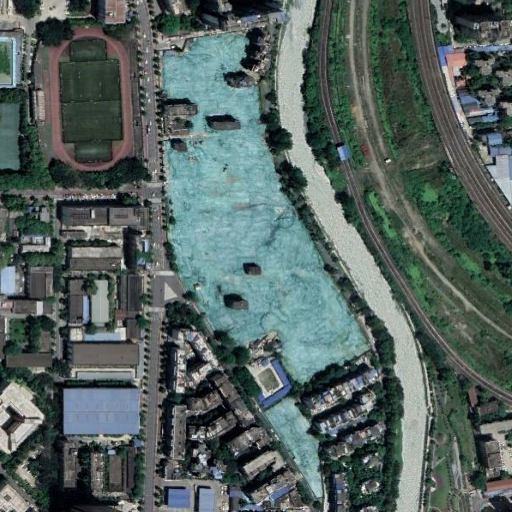cw: (158, 31, 370, 384), (265, 400, 326, 500)
